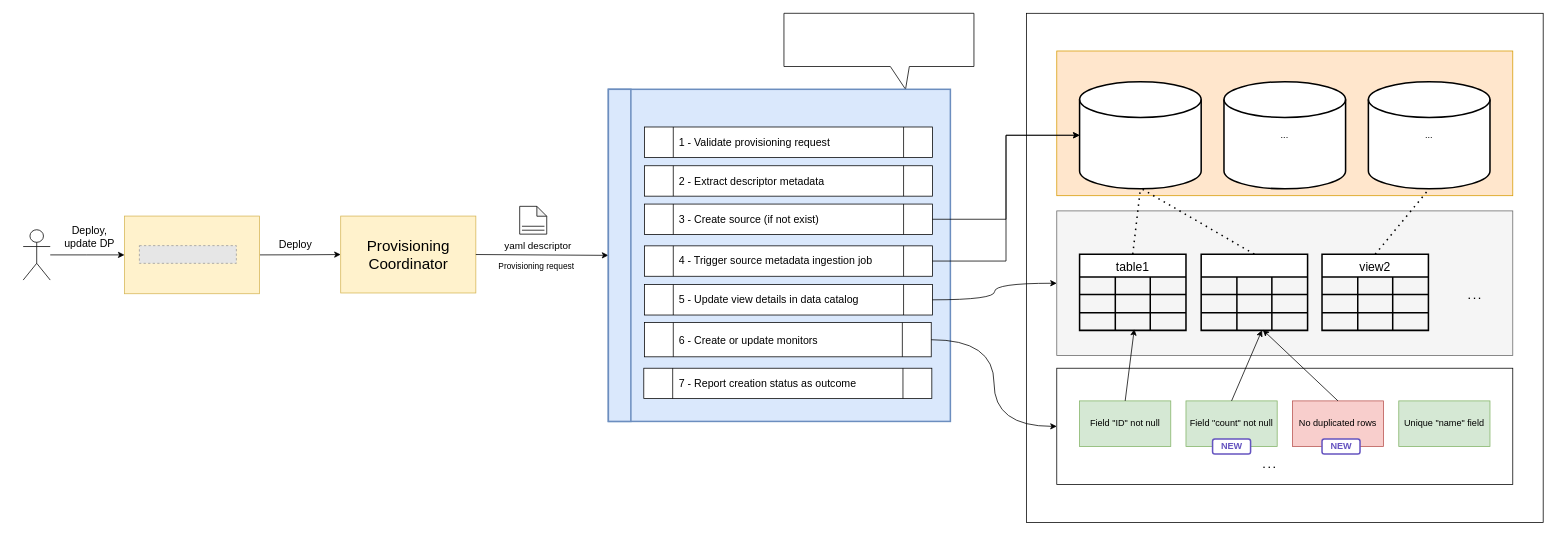
This 1556x536 diagram has some shape labels left out. Grey dashed boxes stand in for pictures. Each missing label, with the box of its shape:
A P I: (607, 88, 631, 422)
Athena Tech Adapter: (607, 88, 951, 422)
Data Catalog: (1056, 210, 1513, 356)
domain_environment_ dataproduct_vVersion_ consumable: (1078, 81, 1202, 189)
DP team: (22, 229, 50, 280)
Idempotent, i.e. does not fail if something it provisions already exists: (783, 13, 974, 89)
Monitors: (1056, 367, 1513, 484)
op1 (view): (1200, 253, 1308, 331)
Sources: (1056, 50, 1513, 196)
